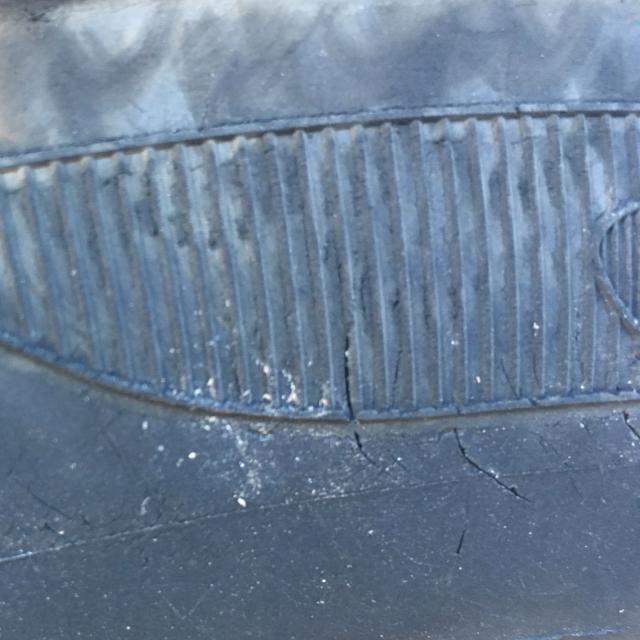Cracks: (308, 224, 640, 586), (0, 365, 195, 553)
Non-defective: (0, 40, 212, 353)
